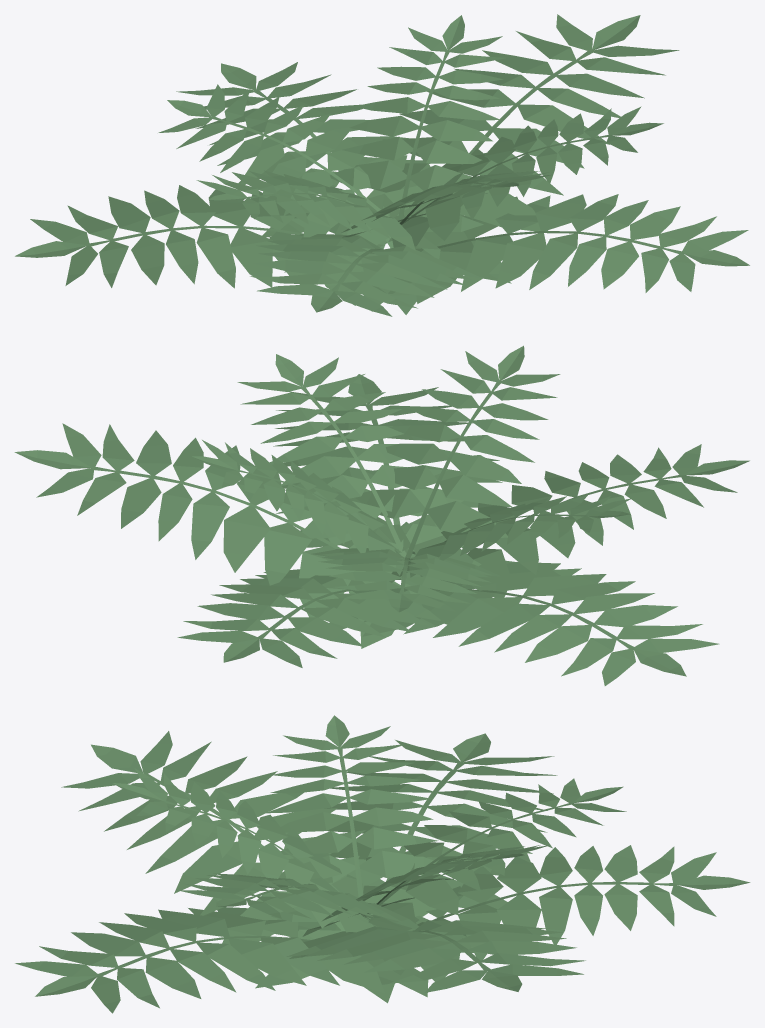
Rendered from plante2.fbx.
3 renders of one model, top to bottom at view 1: azimuth 30°, elevation 25°; view 2: azimuth 150°, elevation 25°; view 3: azimuth 270°, elevation 25°, orthographic. The views are drawn at different scales.
Parts seen in each view (by area): view 1: Plane.023; view 2: Plane.023; view 3: Plane.023.
Boxes of the visible parts, left/top/right/bottom form: Plane.023: left=15, top=14, right=749, bottom=316; Plane.023: left=14, top=345, right=749, bottom=685; Plane.023: left=15, top=715, right=750, bottom=1013.
Size of the model in its own units: 9584 by 2346 by 8809.
